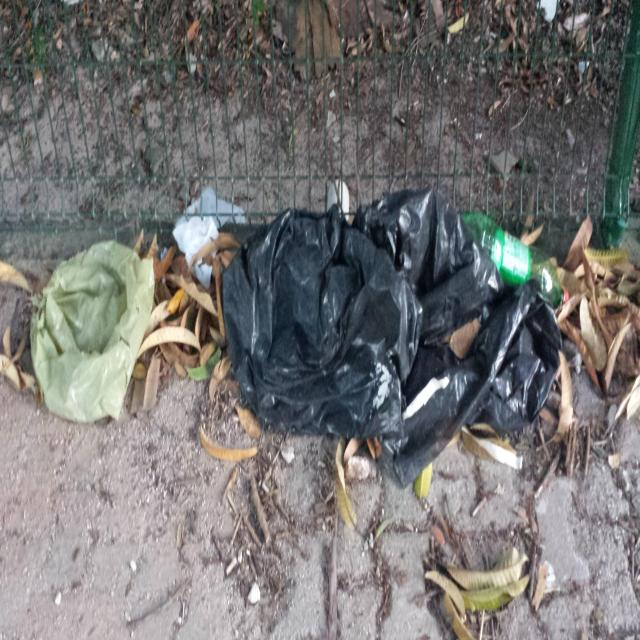litter: (220, 182, 558, 487), (34, 241, 155, 422), (463, 211, 561, 313), (173, 190, 245, 291)
